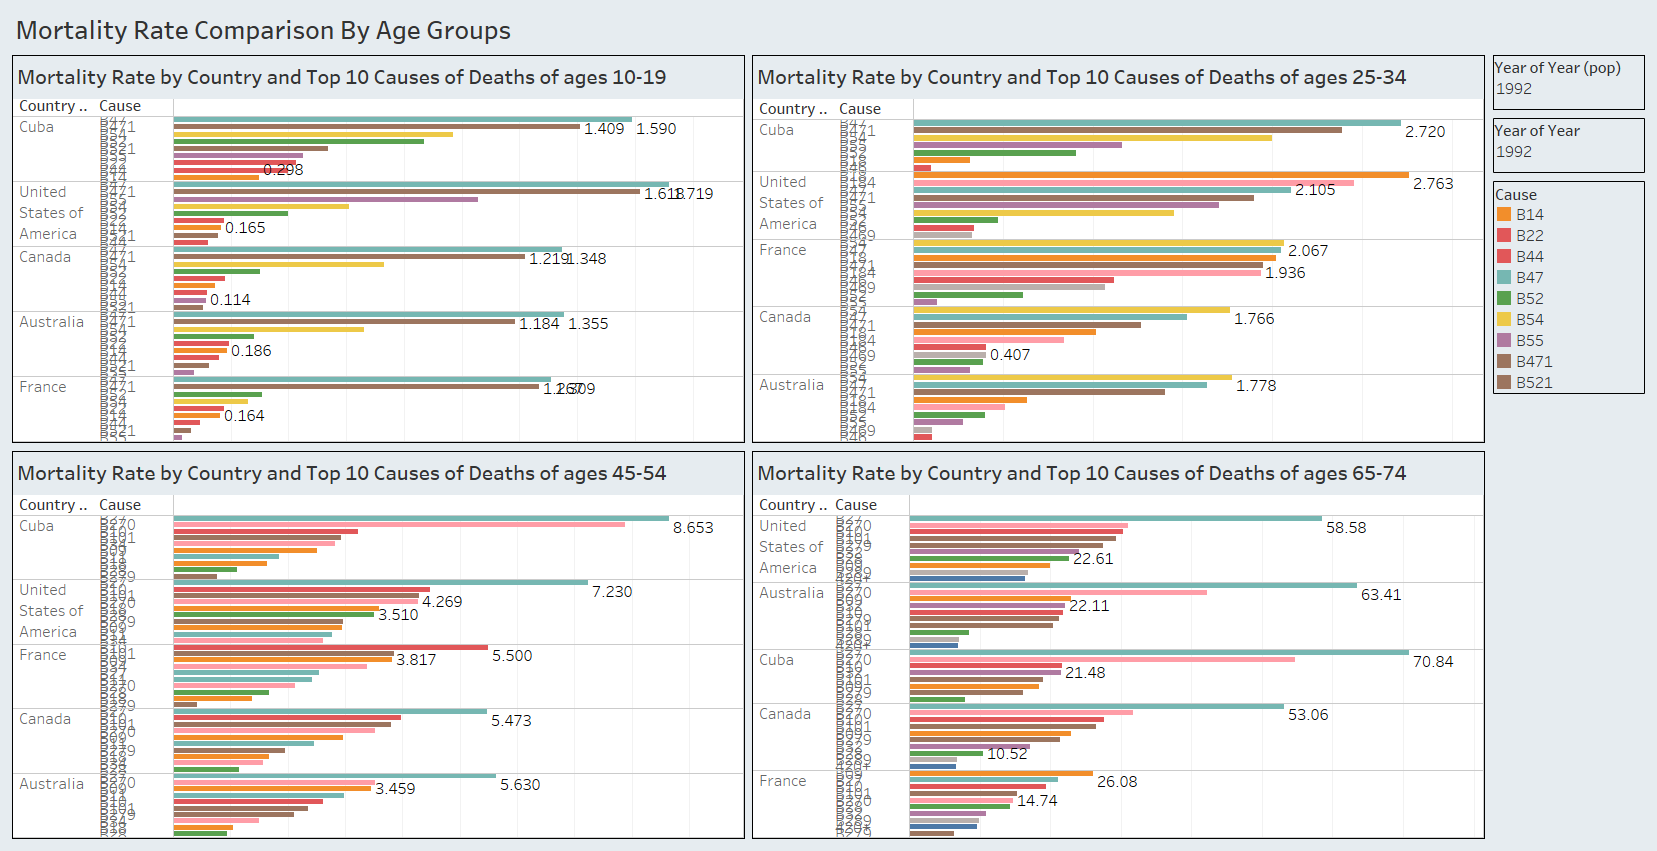

The page's visual inventory and layout, read from the dashboard file:
{"tool":"tableau","page":{"name":"Mortality Rate Comparison By Age Groups","canvas":[1000,1000],"units":"permille","ordinal":0},"visuals":[{"type":"title","box":[4.8,8.8,990.3,47.2]},{"type":"worksheet","title":"Mortality Rate by Country and Top 10 Causes of Deaths of ages 10-19","mark":"Automatic","rows":["name","Cause"],"cols":["Calculation_1508142949681672193"],"box":[4.8,56,446.9,467.6]},{"type":"worksheet","title":"Mortality Rate by Country and Top 10 Causes of Deaths of ages 25-34","mark":"Automatic","rows":["name","Cause"],"cols":["Mortality_Rate_Adolescents (copy)_1508142949682716674"],"box":[451.7,56,446.9,467.6]},{"type":"filter","title":"Mortality Rate by Country and Top 10 Causes of Deaths of ages 10-19","param":"[federated.04rxcd90pjbnn615xpdo81cquxig].[yr:Year (pop):ok]","box":[898.6,56,96.6,69.2]},{"type":"filter","title":"Mortality Rate by Country and Top 10 Causes of Deaths of ages 10-19","param":"[federated.04rxcd90pjbnn615xpdo81cquxig].[yr:Year:ok]","box":[898.6,125.1,96.6,69.2]},{"type":"worksheet","title":"Mortality Rate by Country and Top 10 Causes of Deaths of ages 45-54","mark":"Automatic","rows":["name","Cause"],"cols":["Mortality_Rate_Young (copy)_1508142949683830787"],"box":[4.8,523.6,446.9,467.6]},{"type":"worksheet","title":"Mortality Rate by Country and Top 10 Causes of Deaths of ages 65-74","mark":"Automatic","rows":["name","Cause"],"cols":["Mortality_Rate_MiddleAged (copy)_1508142949685248004"],"box":[451.7,523.6,446.9,467.6]}]}

Visuals, with their boxes on the dashboard's canvas, which has no fixed pixel size, in thousandths of its width and height (x1, y1, x2, y2). These are canvas units, not pixel positions in the 1657x851 screenshot, which may show the page scaled, cropped or inside an application window:
title: (left=5, top=9, right=995, bottom=56)
"Mortality Rate by Country and Top 10 Causes of Deaths of ages 10-19" worksheet: (left=5, top=56, right=452, bottom=524)
"Mortality Rate by Country and Top 10 Causes of Deaths of ages 25-34" worksheet: (left=452, top=56, right=899, bottom=524)
"Mortality Rate by Country and Top 10 Causes of Deaths of ages 10-19" filter: (left=899, top=56, right=995, bottom=125)
"Mortality Rate by Country and Top 10 Causes of Deaths of ages 10-19" filter: (left=899, top=125, right=995, bottom=194)
"Mortality Rate by Country and Top 10 Causes of Deaths of ages 45-54" worksheet: (left=5, top=524, right=452, bottom=991)
"Mortality Rate by Country and Top 10 Causes of Deaths of ages 65-74" worksheet: (left=452, top=524, right=899, bottom=991)
